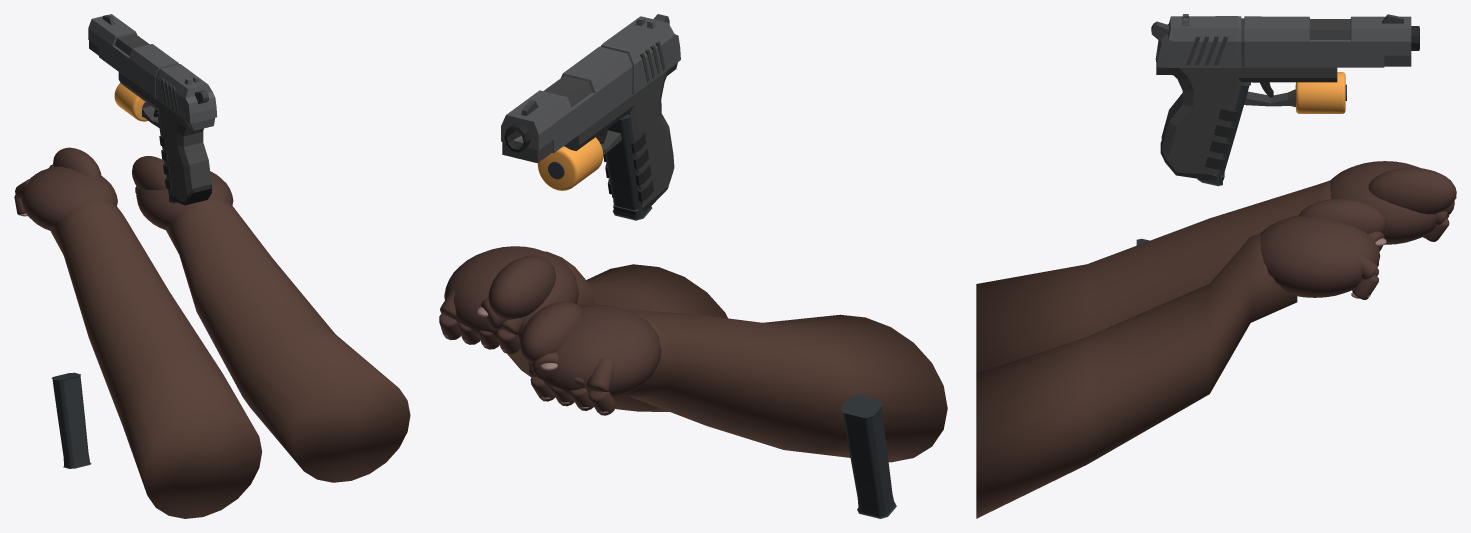
The model's file is echo.glb.
3 renders of one model, left to right at view 1: azimuth 30°, elevation 25°; view 2: azimuth 150°, elevation 25°; view 3: azimuth 270°, elevation 25°, orthographic. The views are drawn at different scales.
Parts seen in each view (by area): view 1: LEFT BARE FOREARM, RIGHT BARE FOREARM, AUTHORED p226 ChargingHandleGeometry, AUTHORED p226 WeaponBodyGeometry, LEFT exposed hand palm, AUTHORED p226 SpareMagazineGeometry, RIGHT exposed hand palm, RIGHT thumb pad, LEFT thumb pad, AIRSOFT_ORANGE_TIP_07 - fitted protective orange guard; view 2: LEFT BARE FOREARM, AUTHORED p226 ChargingHandleGeometry, LEFT exposed hand palm, AUTHORED p226 WeaponBodyGeometry, RIGHT BARE FOREARM, RIGHT exposed hand palm, AUTHORED p226 SpareMagazineGeometry, RIGHT thumb pad, LEFT thumb pad, AUTHORED p226 MagazineGeometry, AIRSOFT_ORANGE_TIP_07 - fitted protective orange guard, LEFT finger0 proximal; view 3: RIGHT BARE FOREARM, LEFT BARE FOREARM, AUTHORED p226 ChargingHandleGeometry, AUTHORED p226 WeaponBodyGeometry, RIGHT exposed hand palm, LEFT exposed hand palm, LEFT thumb pad, RIGHT thumb pad, AIRSOFT_ORANGE_TIP_07 - fitted protective orange guard, AUTHORED p226 MagazineGeometry.
Part boxes in pixels (box(x1,y1,x2,y2)): LEFT BARE FOREARM: box(50, 200, 262, 518); RIGHT BARE FOREARM: box(165, 199, 410, 482); AUTHORED p226 ChargingHandleGeometry: box(88, 14, 217, 123); AUTHORED p226 WeaponBodyGeometry: box(118, 72, 214, 205); LEFT exposed hand palm: box(21, 166, 117, 230); AUTHORED p226 SpareMagazineGeometry: box(51, 372, 91, 468); RIGHT exposed hand palm: box(136, 171, 233, 229); RIGHT thumb pad: box(132, 156, 166, 190); LEFT thumb pad: box(53, 147, 101, 177); AIRSOFT_ORANGE_TIP_07 - fitted protective orange guard: box(114, 83, 147, 121); LEFT BARE FOREARM: box(622, 309, 947, 462); AUTHORED p226 ChargingHandleGeometry: box(501, 16, 680, 163); LEFT exposed hand palm: box(528, 304, 661, 398); AUTHORED p226 WeaponBodyGeometry: box(504, 14, 677, 215); RIGHT BARE FOREARM: box(507, 251, 727, 411); RIGHT exposed hand palm: box(444, 246, 578, 339); AUTHORED p226 SpareMagazineGeometry: box(840, 395, 896, 518); RIGHT thumb pad: box(488, 255, 556, 319); LEFT thumb pad: box(520, 301, 583, 363); AUTHORED p226 MagazineGeometry: box(605, 113, 652, 220); AIRSOFT_ORANGE_TIP_07 - fitted protective orange guard: box(537, 137, 603, 190); LEFT finger0 proximal: box(587, 357, 614, 391); RIGHT BARE FOREARM: box(976, 233, 1297, 518); LEFT BARE FOREARM: box(976, 180, 1331, 373); AUTHORED p226 ChargingHandleGeometry: box(1155, 14, 1411, 67); AUTHORED p226 WeaponBodyGeometry: box(1151, 21, 1419, 180); RIGHT exposed hand palm: box(1260, 215, 1380, 297); LEFT exposed hand palm: box(1330, 161, 1436, 244); LEFT thumb pad: box(1368, 167, 1456, 214); RIGHT thumb pad: box(1298, 198, 1386, 233); AIRSOFT_ORANGE_TIP_07 - fitted protective orange guard: box(1296, 72, 1345, 113); AUTHORED p226 MagazineGeometry: box(1197, 82, 1250, 186).
Bounding box in the file's own units: 0.704 × 0.8485 × 0.823.
